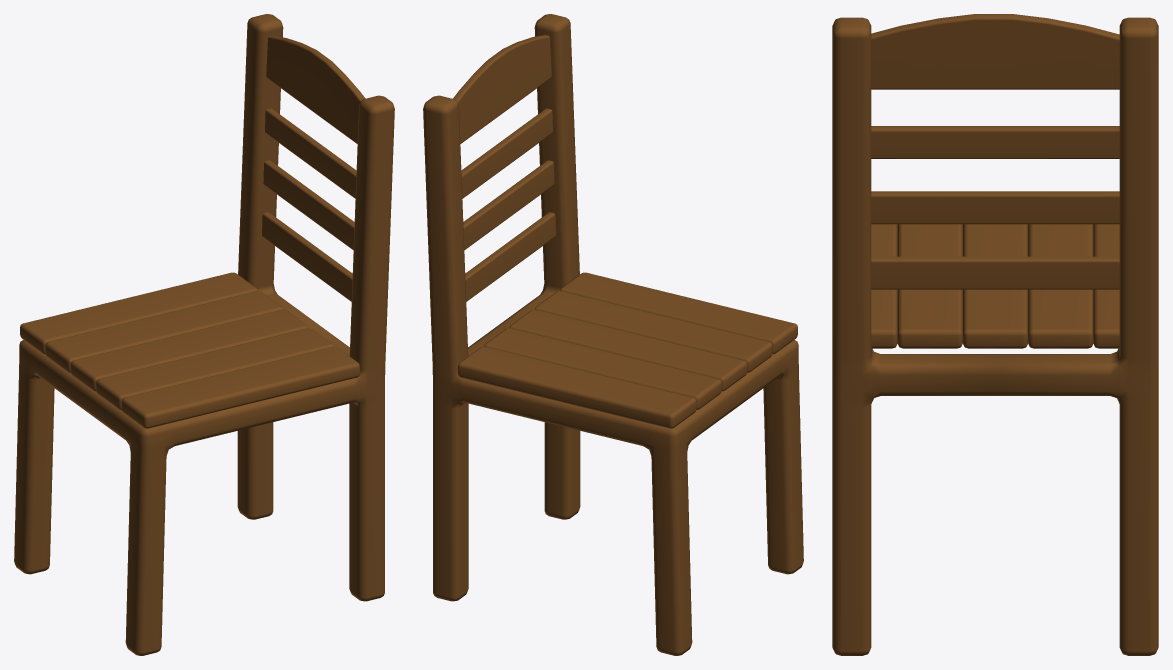
File: chair_02_wooden.fbx
3 views of the same model, side by side, from view 1: azimuth 30°, elevation 25°; view 2: azimuth 150°, elevation 25°; view 3: azimuth 270°, elevation 25° (orthographic). The views are drawn at different scales.
Parts seen in each view (by area): view 1: chair_02_wooden; view 2: chair_02_wooden; view 3: chair_02_wooden.
Boxes of the visible parts, bbox=[...] form: chair_02_wooden: bbox=[14, 14, 394, 655]; chair_02_wooden: bbox=[423, 14, 803, 655]; chair_02_wooden: bbox=[832, 14, 1158, 655].
Bounding box in the file's own units: 59.37 × 109 × 50.24.
Materials: 1 (1 with a texture image).
